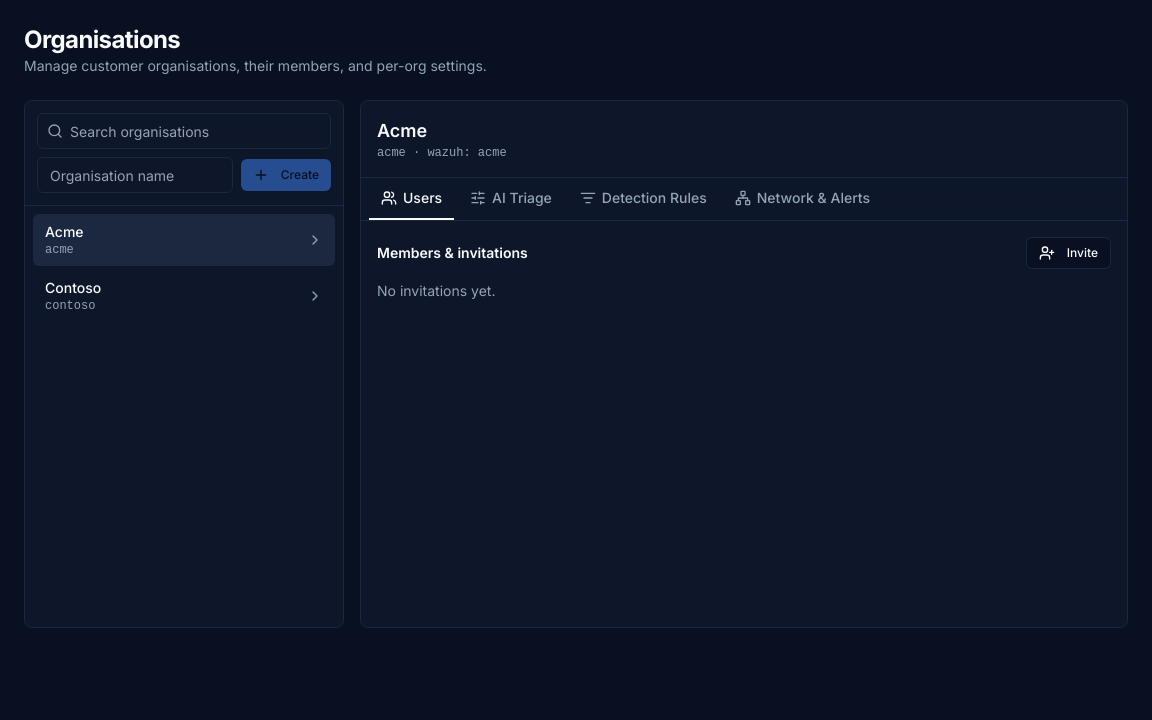
Test: OrgManagement › Users tab — invite dialog › closes dialog after successful invite
This screenshot has width=1152, height=720.
Expected: the heading "Acme" is shown, top-left (377, 117), bottom-right (427, 145)
Click the button with aria-label "invite user to acme" at (1068, 253), box top-left (1026, 237), bottom-right (1111, 269)
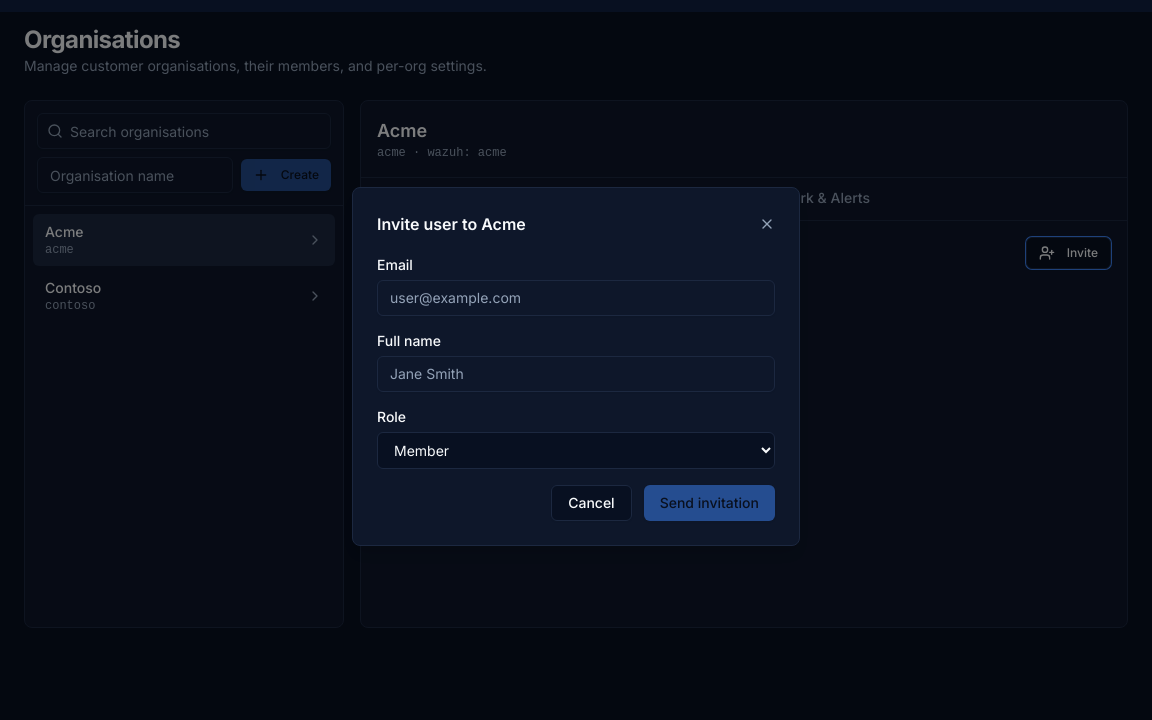
Type "alice@example.com" into the field labelled "Email" at (576, 298), box top-left (377, 280), bottom-right (775, 316)
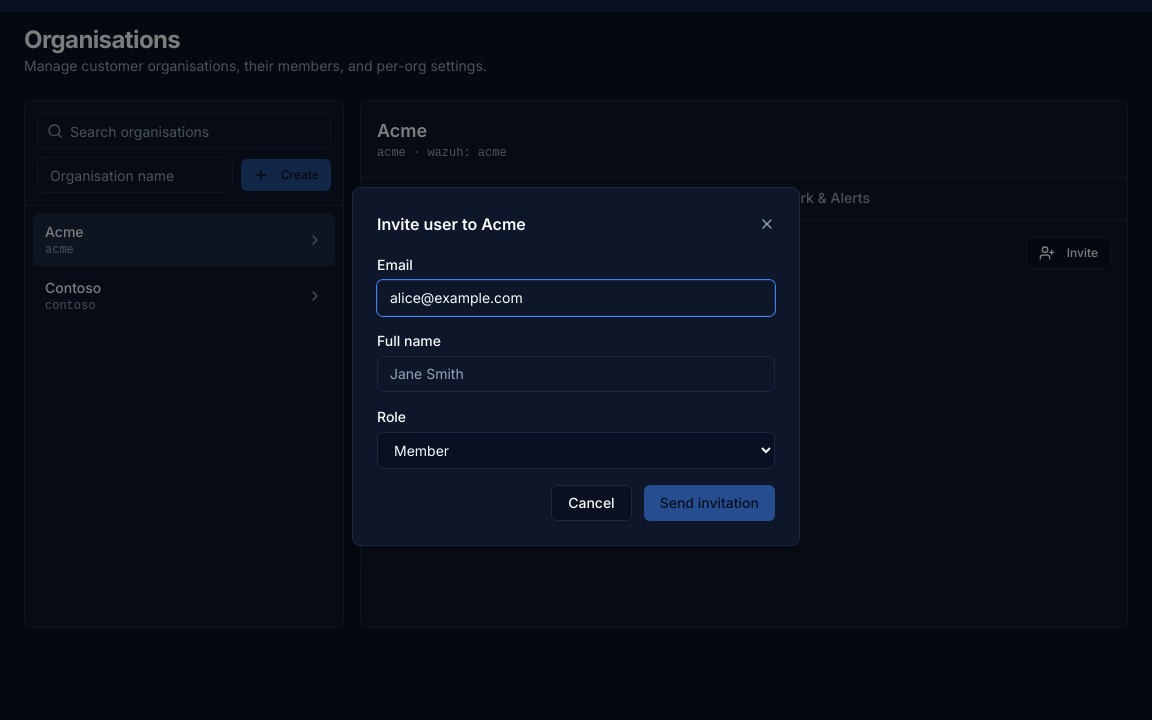
Type "Alice Smith" into the field labelled "Full name" at (576, 374), box top-left (377, 356), bottom-right (775, 392)
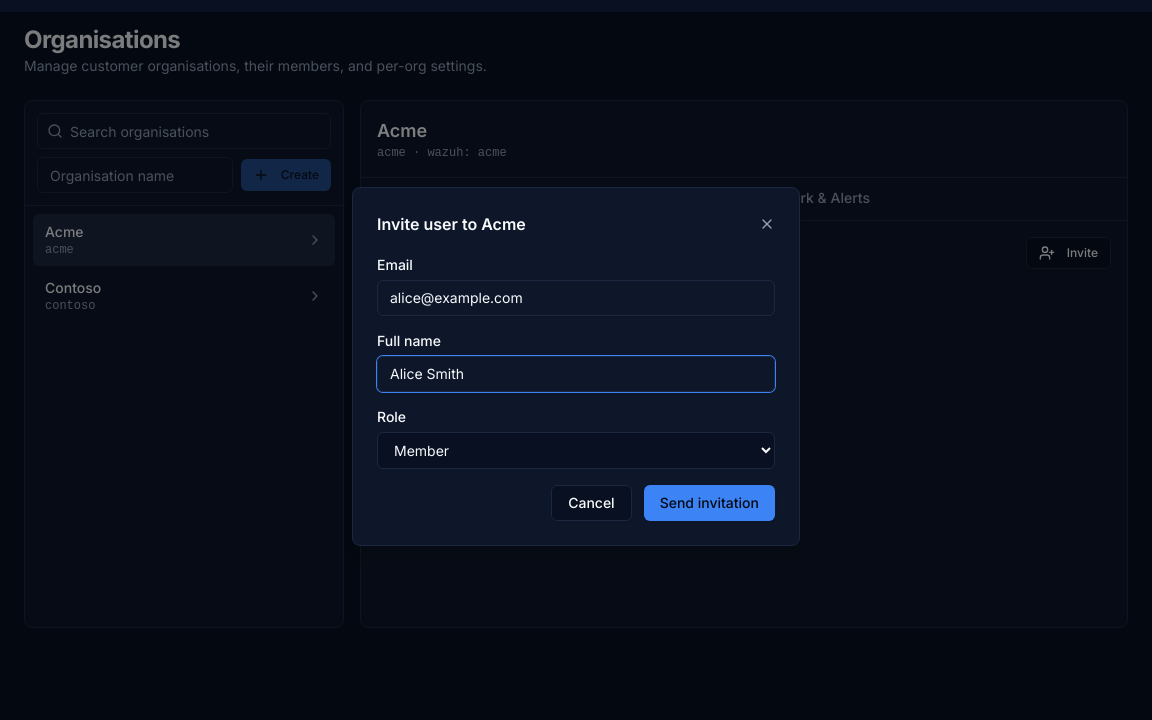
Click the button "Send invitation" at (709, 502), box top-left (644, 484), bottom-right (775, 520)
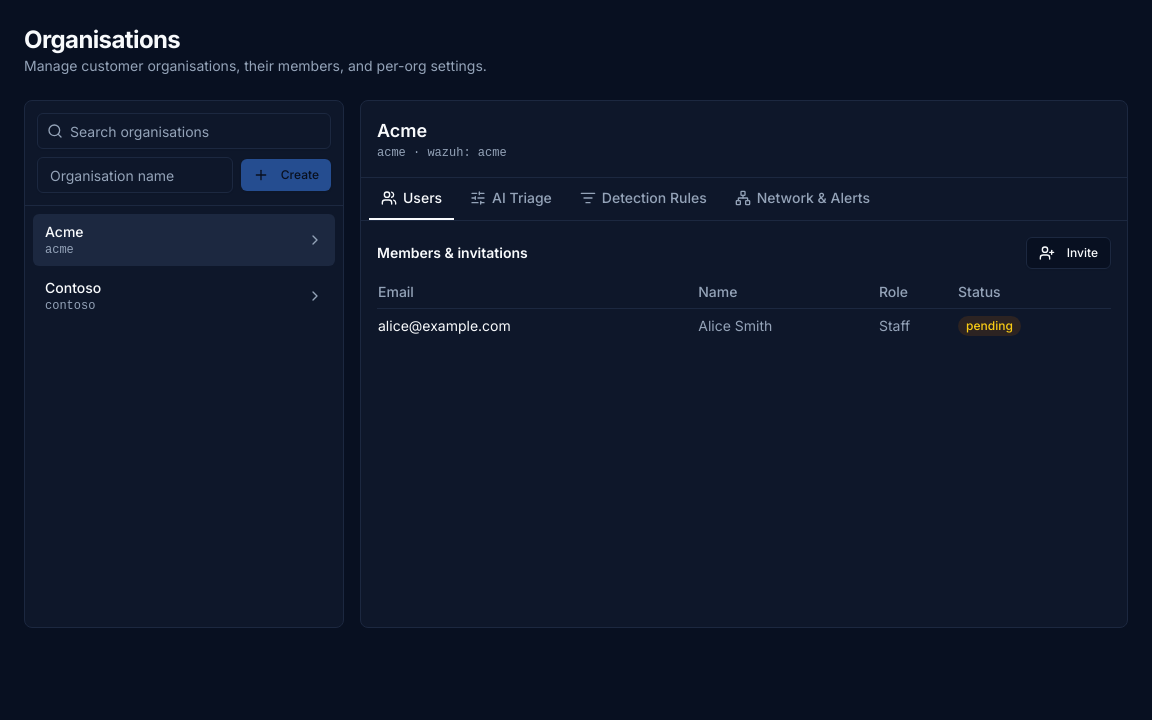
Now the heading "Invite user to Acme" is gone
